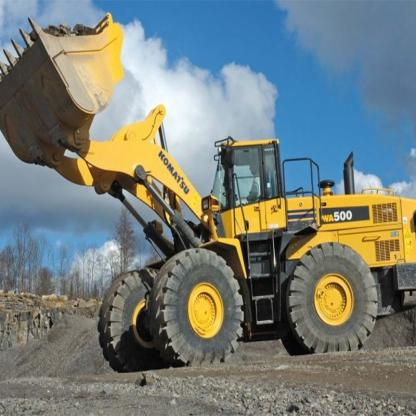bull_dozer/loader/grader: (3, 12, 416, 369)
